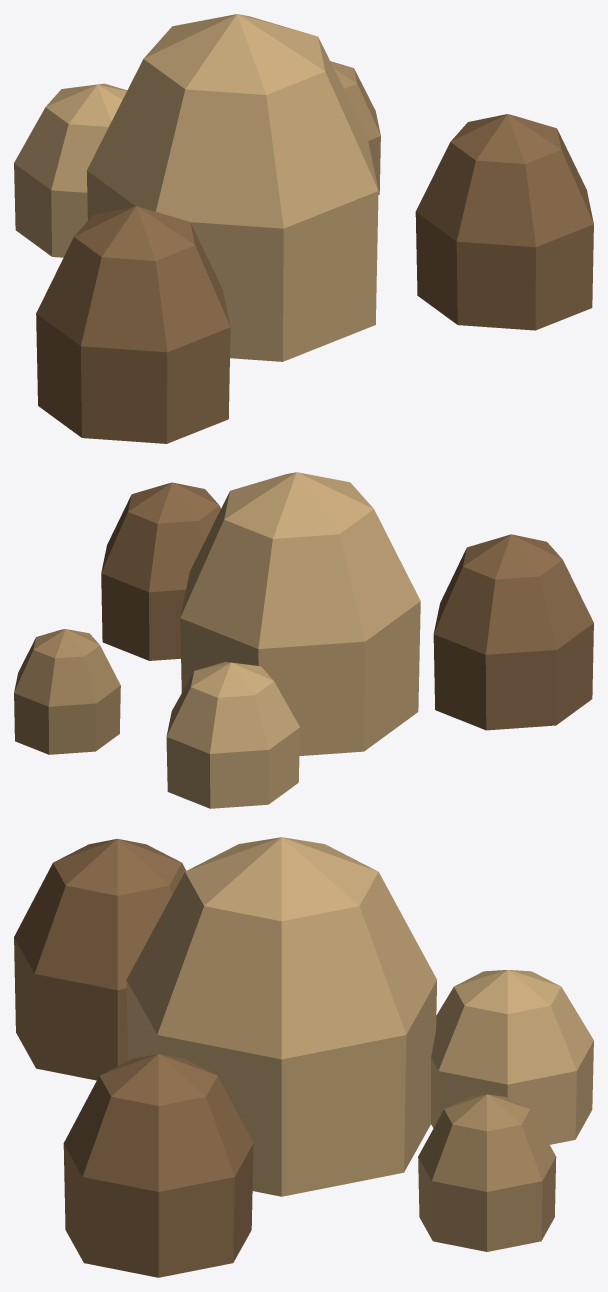
File: env_r10_pebble_cluster.glb
3 views of the same model, one above another, from view 1: azimuth 30°, elevation 25°; view 2: azimuth 150°, elevation 25°; view 3: azimuth 270°, elevation 25° (orthographic). The views are drawn at different scales.
Visible parts, largest first — view 1: env_r10_pebble_cluster; view 2: env_r10_pebble_cluster; view 3: env_r10_pebble_cluster.
Boxes of the visible parts, bbox=[...] form: env_r10_pebble_cluster: bbox=[14, 14, 593, 443]; env_r10_pebble_cluster: bbox=[14, 472, 593, 808]; env_r10_pebble_cluster: bbox=[14, 837, 593, 1277].
Bounding box in the file's own units: 1.8 × 0.9 × 1.6.
1 material, 1 textured.
